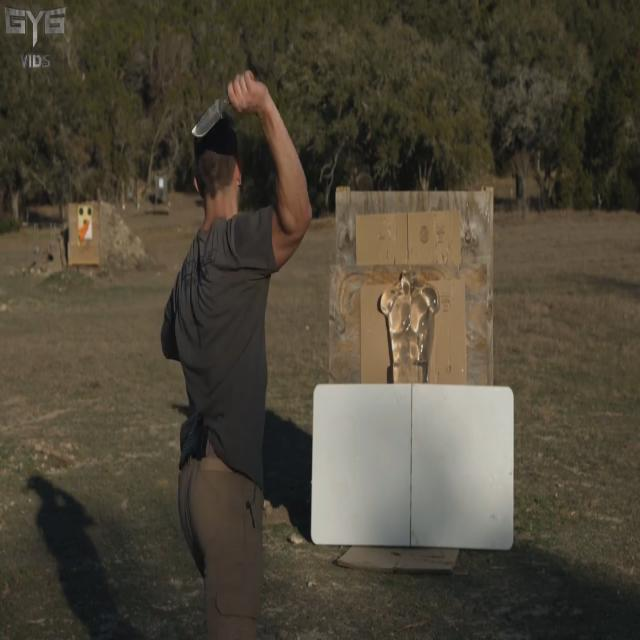knife: (192, 86, 232, 144)
